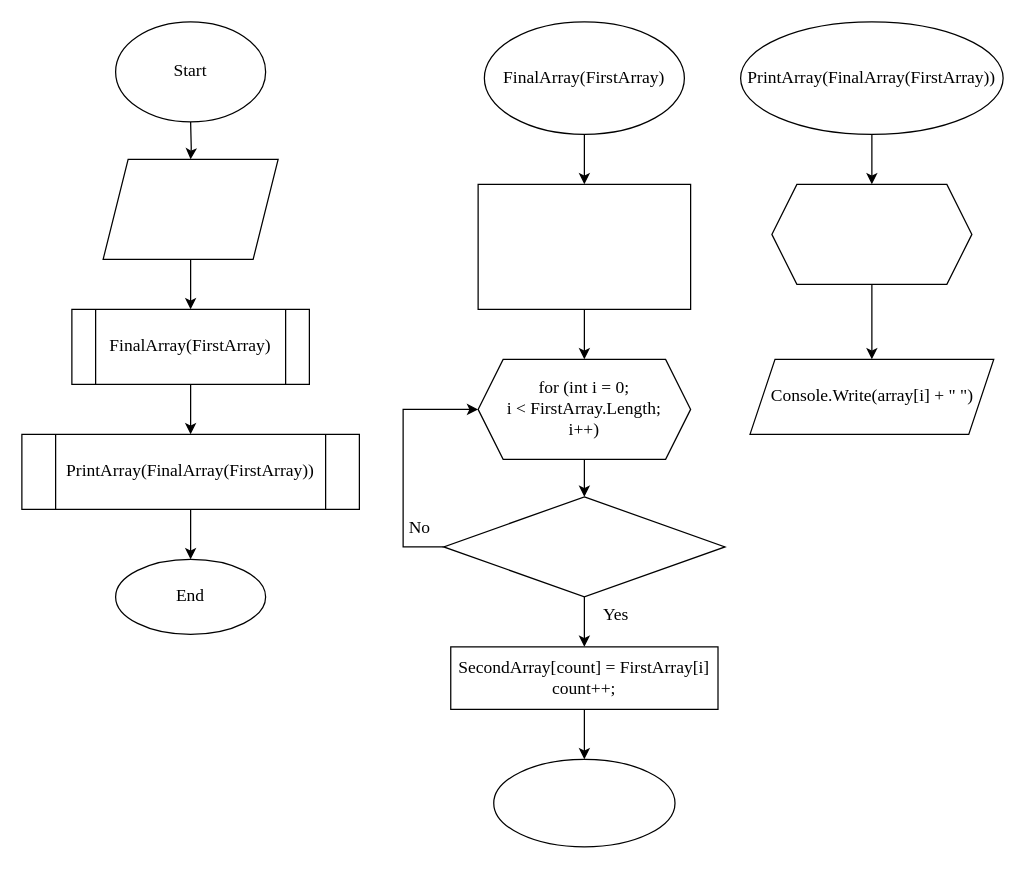
Image size: 1025x869. Some labels were removed from this diagram. Each missing label, with the centre of its shape:
"for (int i = 0; i < array.Length; i++)" belongs at pixel 871 233.
"if (FirstArray[i].length <= 3)" belongs at pixel 583 546.
"int count=0 string[] SecondArray = new string[FirstArray.Length]" belongs at pixel 584 246.
"Return SecondArray" belongs at pixel 583 802.
"string[] FirstArray" belongs at pixel 190 208.
